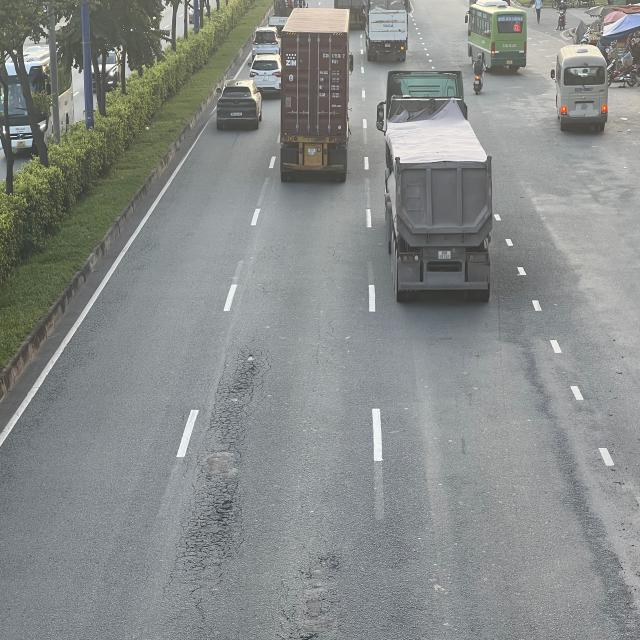car: (214, 83, 262, 134), (248, 53, 283, 95)
coach: (550, 45, 607, 130), (466, 5, 528, 72)
container: (377, 70, 495, 306), (278, 8, 350, 183)
truck: (364, 0, 408, 59)
